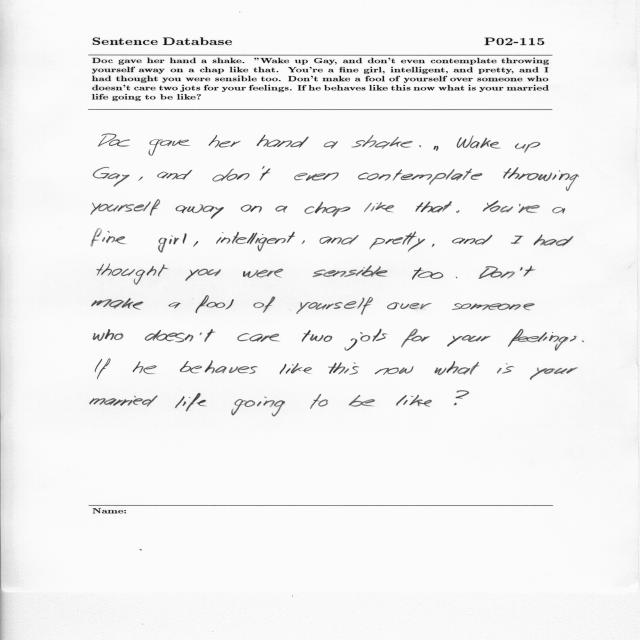word: (358, 169, 482, 185), (503, 167, 579, 191), (508, 329, 577, 351), (216, 232, 295, 251), (97, 264, 168, 285), (296, 297, 373, 315), (91, 199, 160, 216), (370, 231, 425, 252), (231, 397, 285, 417), (180, 360, 257, 374), (345, 329, 388, 351), (213, 166, 271, 182), (145, 329, 215, 342), (313, 265, 387, 277), (352, 135, 413, 149), (90, 395, 158, 407), (479, 266, 536, 279), (93, 167, 130, 187), (305, 201, 351, 217), (176, 204, 224, 219), (149, 139, 191, 156), (195, 296, 234, 314), (257, 135, 309, 148), (91, 229, 126, 247), (530, 367, 578, 380), (435, 361, 479, 375), (92, 298, 143, 310), (452, 303, 535, 310), (158, 233, 187, 253), (175, 393, 207, 411), (457, 136, 500, 149), (447, 335, 491, 347), (401, 329, 430, 347), (534, 235, 574, 247), (415, 201, 452, 213), (185, 269, 221, 281), (396, 395, 432, 407), (98, 134, 130, 147), (294, 172, 339, 181), (412, 267, 443, 280), (328, 362, 359, 375), (319, 235, 359, 245), (452, 235, 492, 245), (208, 135, 241, 147), (237, 333, 279, 342), (279, 363, 312, 374), (483, 201, 513, 213), (243, 269, 283, 278), (94, 329, 124, 341), (302, 330, 332, 342), (375, 366, 414, 375), (158, 170, 193, 180), (254, 297, 275, 313), (387, 303, 432, 310), (133, 361, 157, 374), (349, 395, 375, 407), (364, 203, 394, 213), (96, 359, 111, 379), (515, 142, 540, 153), (310, 394, 328, 409), (454, 391, 469, 406), (518, 204, 540, 213), (497, 363, 514, 374), (241, 205, 262, 213), (323, 141, 338, 149), (511, 236, 524, 245), (275, 206, 288, 213), (552, 207, 565, 214), (169, 302, 181, 309), (194, 241, 199, 247), (434, 146, 439, 151), (138, 176, 143, 181), (301, 240, 305, 244), (456, 210, 459, 213), (432, 244, 435, 247), (419, 146, 421, 148), (456, 277, 458, 279), (582, 341, 584, 343)
